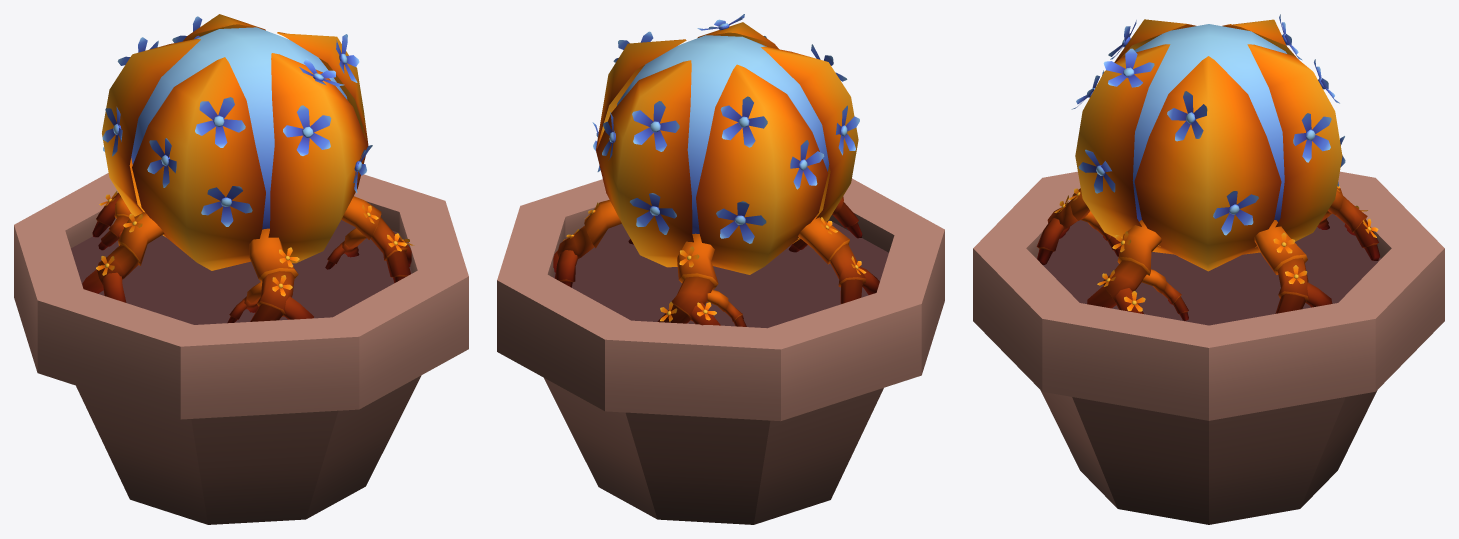
Rendered from wp_wPot_7.fbx.
3 views of the same model, side by side, from view 1: azimuth 30°, elevation 25°; view 2: azimuth 150°, elevation 25°; view 3: azimuth 270°, elevation 25° (orthographic).
Visible parts, largest first — view 1: w_pl7; view 2: w_pl7; view 3: w_pl7.
Boxes of the visible parts, x1,y1,x2,y2 form: w_pl7: (14, 14, 468, 524); w_pl7: (497, 14, 944, 524); w_pl7: (973, 14, 1444, 524).
Size of the model in its own units: 109 by 111 by 109.
